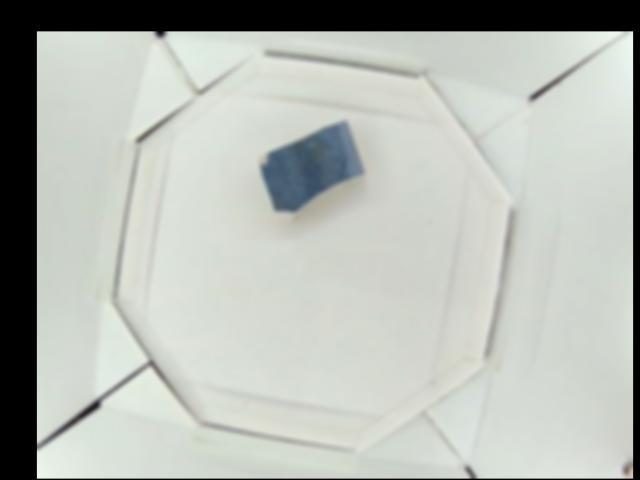China: (257, 118, 364, 214)
